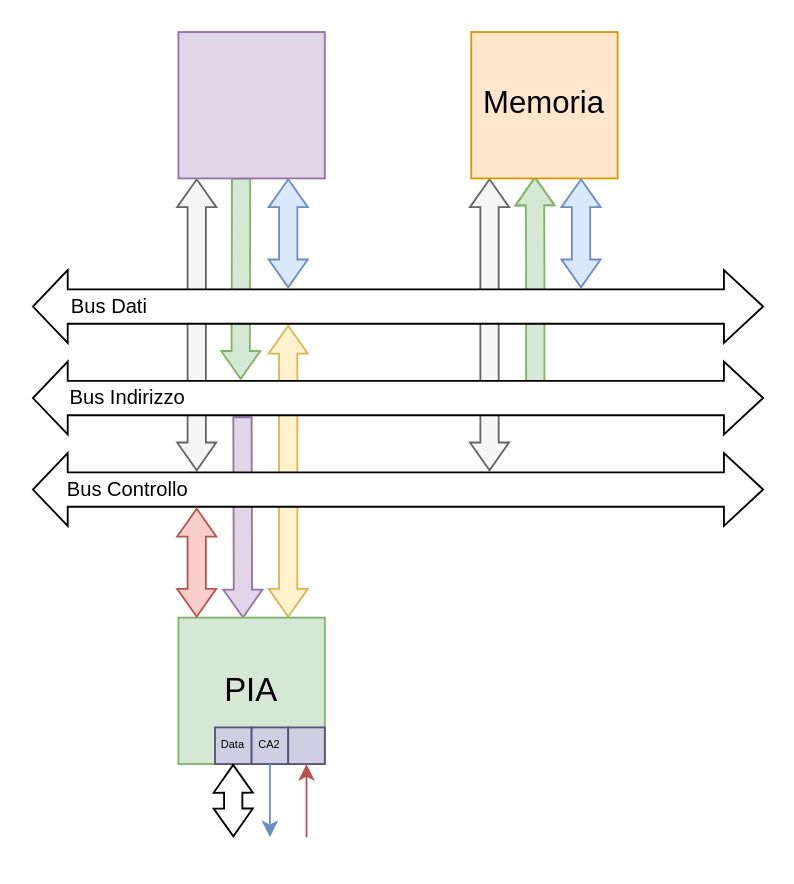
Image size: 794x884. Some labels were removed from this diagram. The centre of each missing label's shape, as x and y in pixels:
CA1: the point at 305,745
M68k: the point at 251,104
